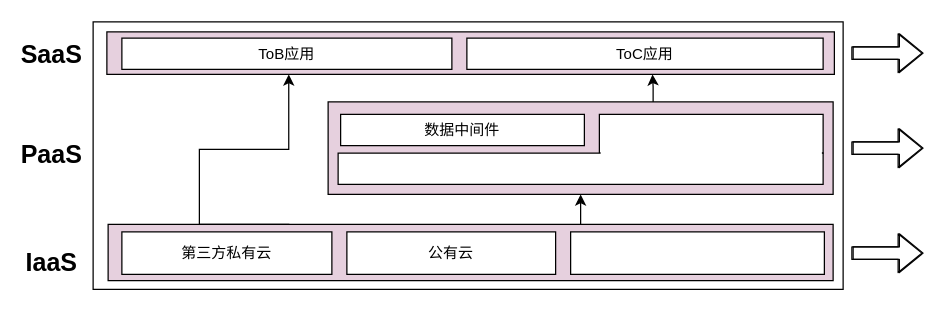
Image size: 945x311. Some labels were removed from this diagram. Each missing label, with the box of its shape:
在线组件 & 离线组件: (337, 152, 823, 184)
自家的IaaS 平台: (569, 231, 824, 274)
